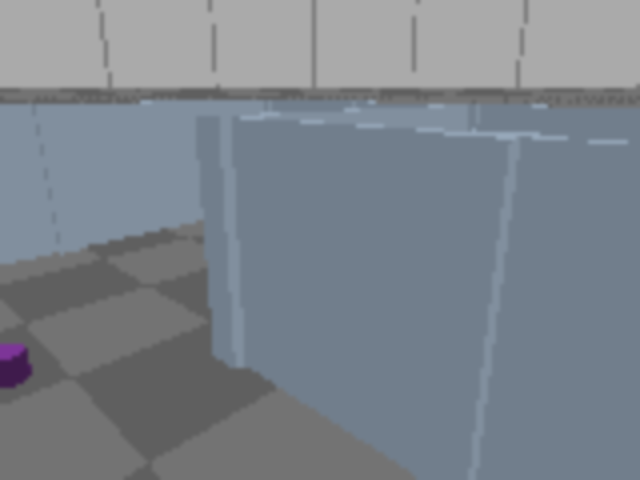puck: (0, 342, 30, 389)
